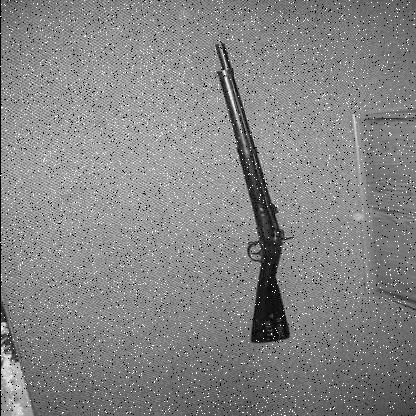rifle: (176, 24, 302, 361)
